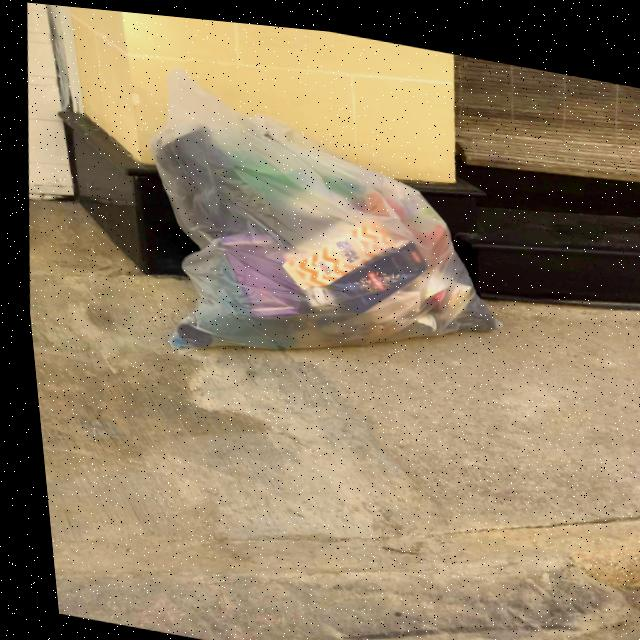Recycled Waste -Grey or Green Bag-: (123, 57, 521, 402)
